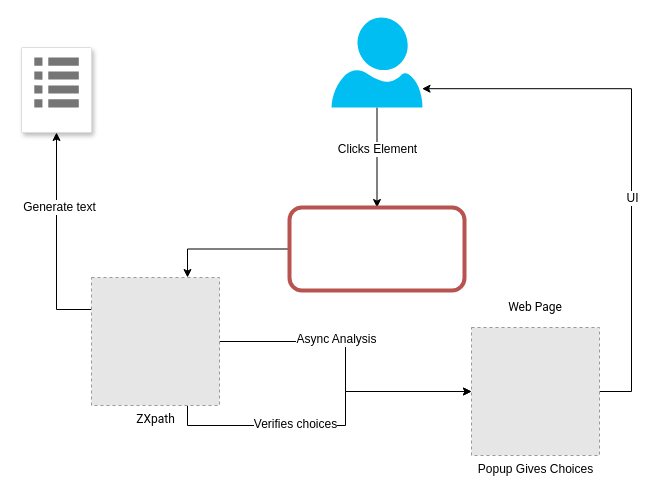
This 657x493 diagram has some shape labels left out. Grey dashed boxes stand in for pictures. Each missing label, with the centre of its shape:
Element: (376,248)
Methods: (57,91)
